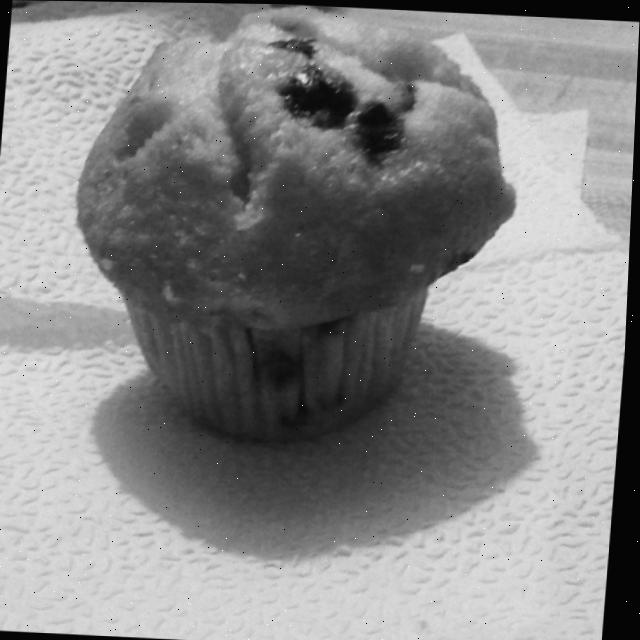炸货点心: (23, 0, 538, 490)
面包点心: (23, 0, 538, 490)
